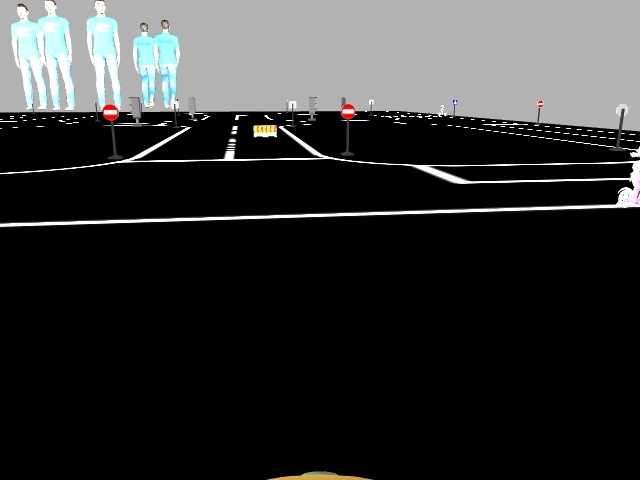ClosedRoadStand: (252, 125, 275, 135)
NoEntry: (101, 104, 119, 121), (339, 104, 354, 118)
